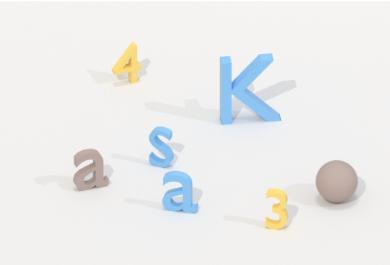0-Tron: (313, 157, 362, 206)
3: (262, 185, 292, 233)
4: (109, 39, 144, 86)
K: (214, 48, 287, 128)
S: (145, 123, 177, 169)
a: (70, 144, 111, 194), (159, 169, 201, 216)
